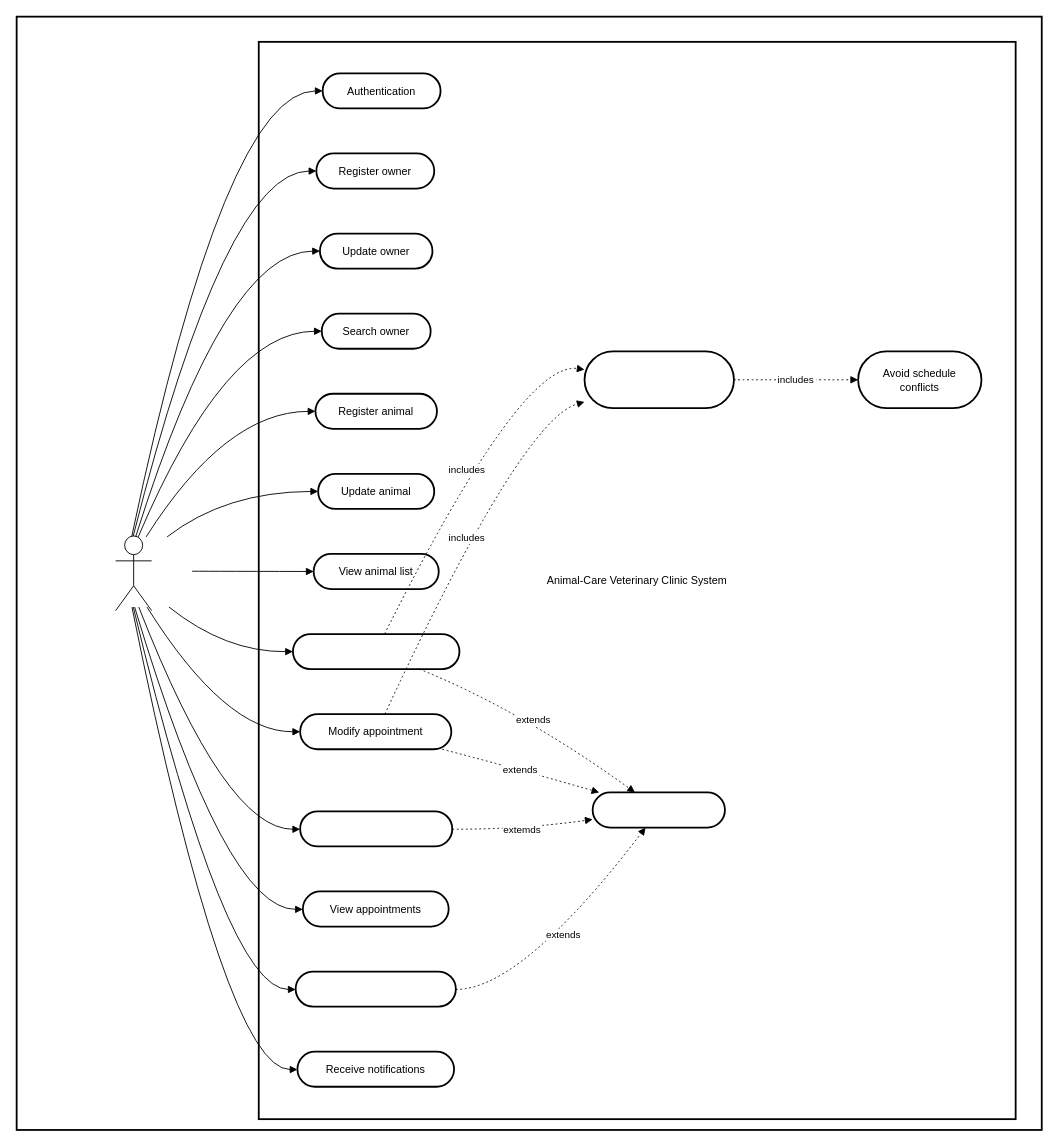
Image size: 1058x1146. Some labels were removed from this diagram. Here are the shapes that lost their labels. From the top down, the centre of each, then its label:
[658,379]: Check veterinarian availability
[133,573]: Receptionist
[376,651]: Schedule appointment
[376,828]: Cancel appointment
[658,809]: Send notification
[375,988]: Confirm appointment
